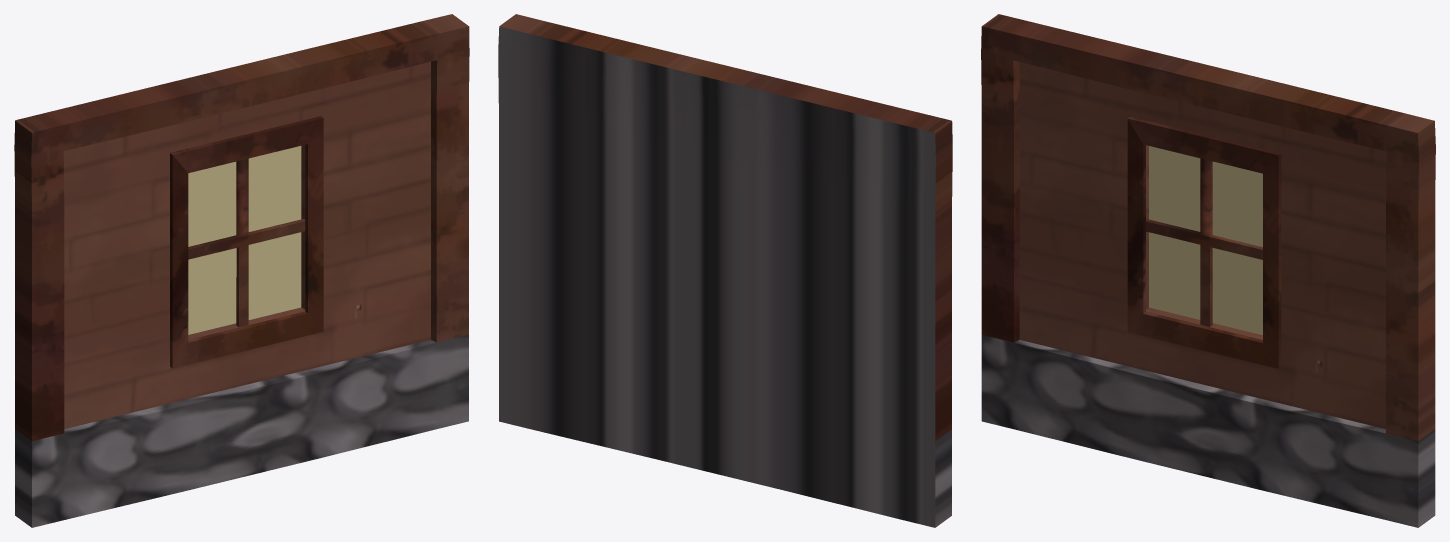
File: House_Wall_Short.fbx
3 renders of one model, left to right at view 1: azimuth 30°, elevation 25°; view 2: azimuth 150°, elevation 25°; view 3: azimuth 330°, elevation 25°, orthographic.
Parts seen in each view (by area): view 1: House_Wall_Short; view 2: House_Wall_Short; view 3: House_Wall_Short.
Part boxes in pixels (x1,y1,x2,y2): House_Wall_Short: (14,14,469,527); House_Wall_Short: (498,14,952,527); House_Wall_Short: (981,14,1435,527).
Size of the model in its own units: 917 by 790 by 63.45.
1 material, 1 textured.
